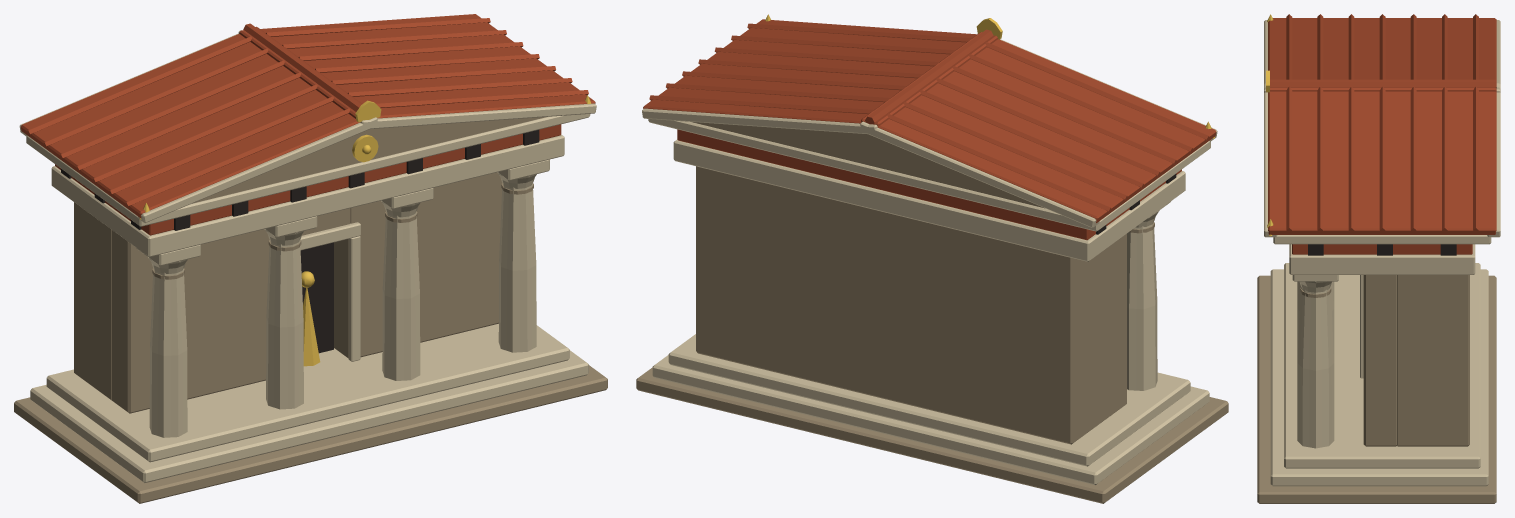
The model's file is temple.glb.
The picture shows the model from 3 angles, left to right: view 1: azimuth 30°, elevation 25°; view 2: azimuth 150°, elevation 25°; view 3: azimuth 270°, elevation 25°; orthographic projection. The views are drawn at different scales.
Parts seen in each view (by area): view 1: temple; view 2: temple; view 3: temple.
Boxes of the visible parts, x1=… form: temple: x1=14, y1=14, x2=607, y2=503; temple: x1=636, y1=14, x2=1228, y2=503; temple: x1=1257, y1=14, x2=1500, y2=503.
Bounding box in the file's own units: 1.94 × 1.35 × 0.915.
